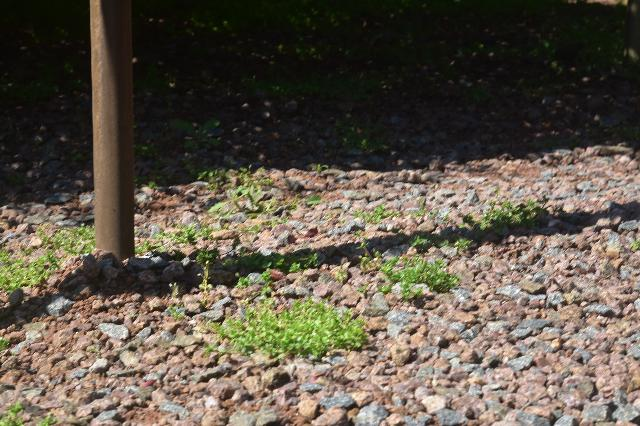MalezaMontesDelPlata: (196, 293, 363, 359), (0, 222, 94, 300), (343, 249, 465, 297), (461, 188, 546, 240)
